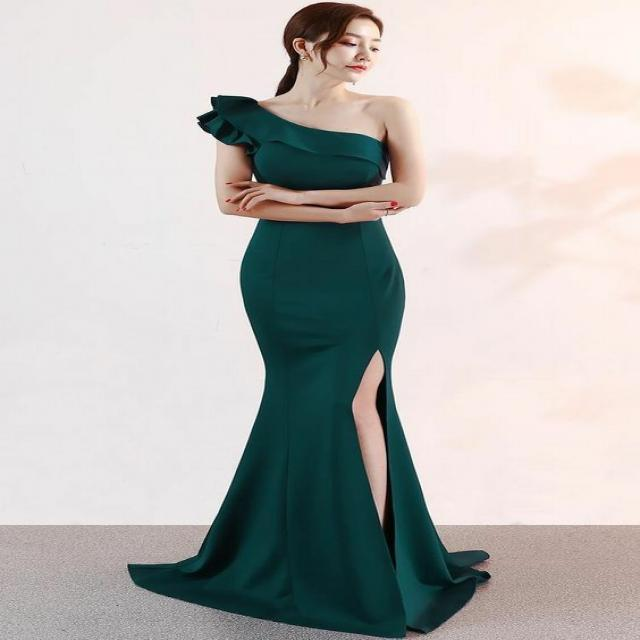female-dress: (155, 85, 498, 631), (144, 87, 164, 107), (152, 88, 154, 100)
